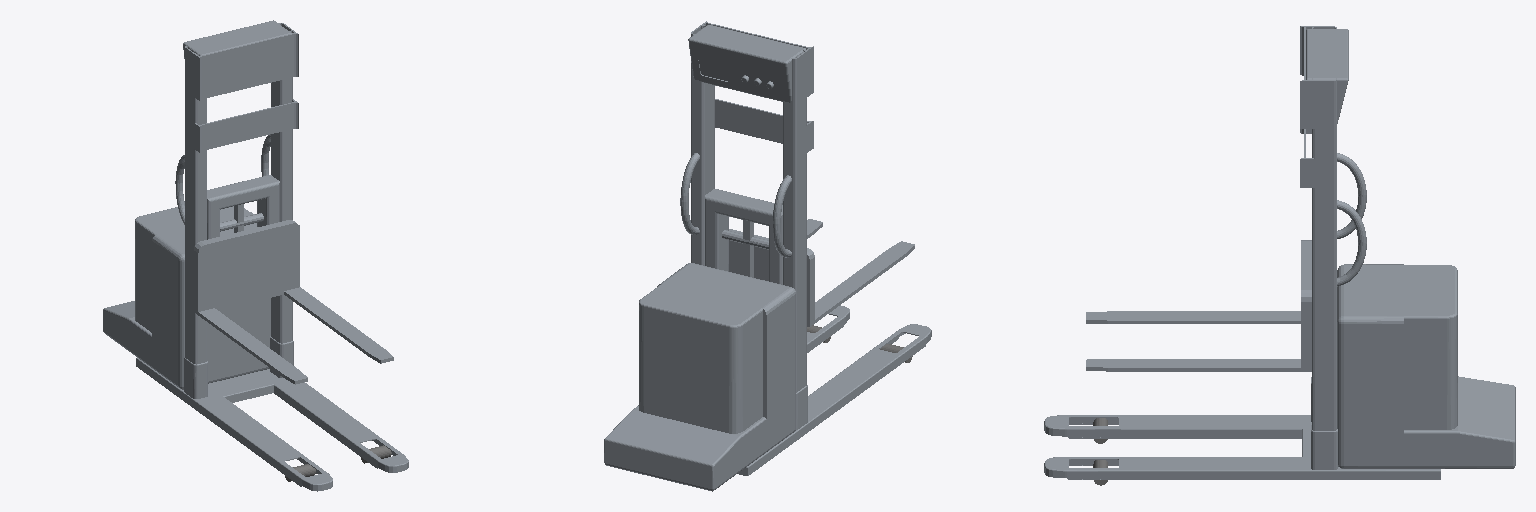
robot.urdf — rep_ryw:
<?xml version="1.0"?>
<robot name="rep_ryw">

  <link name="base_link">
    <inertial>
      <origin xyz="-0.00040041 0.07848 1.4275" rpy="0 0 0" />
      <mass value="353.37" />
      <inertia ixx="133.11" ixy="1.5652" ixz="5.7253" iyy="137.3" iyz="-5.7873" izz="6.6505" />
    </inertial>
    <visual>
      <origin xyz="0 0 0" rpy="0 0 0" />
      <geometry>
        <mesh filename="package://rep_ryw/meshes/base_link.STL" />
      </geometry>
      <material name="">
        <color rgba="0.61569 0.64314 0.67451 1" />
      </material>
    </visual>
    <collision>
      <origin xyz="0 0 0" rpy="0 0 0" />
      <geometry>
        <mesh filename="package://rep_ryw/meshes/base_link.STL" />
      </geometry>
    </collision>
  </link>

  <link name="motor_Link">
    <inertial>
      <origin xyz="0.0051653 0.014164 1.8271E-17" rpy="0 0 0" />
      <mass value="2.1701" />
      <inertia ixx="0" ixy="0" ixz="0" iyy="0" iyz="0" izz="0" />
    </inertial>
    <visual>
      <origin xyz="0 0 0" rpy="0 0 0" />
      <geometry>
        <mesh filename="package://rep_ryw/meshes/motor_Link.STL" />
      </geometry>
      <material name="">
        <color rgba="255 255 255 1" />
      </material>
    </visual>
    <collision>
      <origin xyz="0 0 0" rpy="0 0 0" />
      <geometry>
        <mesh filename="package://rep_ryw/meshes/motor_Link.STL" />
      </geometry>
    </collision>
  </link>
  <joint name="jt-m2b" type="revolute">
    <origin xyz="0 0.43 0.12633" rpy="-1.5708 0 0" />
    <parent link="base_link" />
    <child link="motor_Link" />
    <axis xyz="0 -1 0" />
    <limit effort="3.0" lower="-3.1415926" upper="3.1415926" velocity="0.1" />
  </joint>
  <!--transmission name="joint_m2b_trans">
    <type>transmission_interface/SimpleTransmission</type>
    <joint name="jt-m2b">
      <hardwareInterface>EffortJointInterface</hardwareInterface>
    </joint>
    <actuator name="joint_m2b_motor">
      <hardwareInterface>EffortJointInterface</hardwareInterface>
      <mechanicalReduction>100.0</mechanicalReduction>
    </actuator>
  </transmission/-->

  <link name="wheel_Link">
    <inertial>
      <origin xyz="0 0.025 0" rpy="0 0 0" />
      <mass value="0.80751" />
      <inertia ixx="0" ixy="0" ixz="0" iyy="0" iyz="0" izz="0" />
    </inertial>
    <visual>
      <origin xyz="0 0 0" rpy="0 0 0" />
      <geometry>
        <mesh filename="package://rep_ryw/meshes/wheel_Link.STL" />
      </geometry>
      <material name="">
        <color rgba="0.49804 0.49804 0.49804 1" />
      </material>
    </visual>
    <collision>
      <origin xyz="0 0 0" rpy="0 0 0" />
      <geometry>
        <mesh filename="package://rep_ryw/meshes/wheel_Link.STL" />
      </geometry>
    </collision>
  </link>
  <joint name="jt-w2m" type="continuous">
    <origin xyz="-0.025 0.08 0" rpy="0 0 1.5708" />
    <parent link="motor_Link" />
    <child link="wheel_Link" />
    <axis xyz="0 1 0" />
    <limit effort="5.0" velocity="0.1" />
    <joint_properties damping="2.0" friction="1.0"/>
  </joint>
  <!--transmission name="joint_w2m_trans">
    <type>transmission_interface/SimpleTransmission</type>
    <joint name="jt-w2m">
      <hardwareInterface>EffortJointInterface</hardwareInterface>
    </joint>
    <actuator name="joint_w2m_motor">
      <hardwareInterface>EffortJointInterface</hardwareInterface>
      <mechanicalReduction>100.0</mechanicalReduction>
    </actuator>
  </transmission/-->

  <link name="rwheel_Link">
    <inertial>
      <origin xyz="0 0.075 0 " rpy="0 0 0" />
      <mass value="0.54675" />
      <inertia ixx="0" ixy="0" ixz="0" iyy="0" iyz="0" izz="0" />
    </inertial>
    <visual>
      <origin xyz="0 0 0" rpy="0 -1.5708 0" />
      <geometry>
        <mesh filename="package://rep_ryw/meshes/rwheel_Link.STL" />
      </geometry>
      <material name="">
        <color rgba="0.49804 0.49804 0.49804 1" />
      </material>
    </visual>
    <collision>
      <origin xyz="0 0 0" rpy="0 -1.5708 0" />
      <geometry>
        <mesh filename="package://rep_ryw/meshes/rwheel_Link.STL" />
      </geometry>
    </collision>
  </link>
  <joint name="jt-rw2b" type="continuous">
    <origin xyz="-0.305 -0.93759 0.0063292" rpy="0 0 0" />
    <!--rpy="-1.5708 0.3918 -1.5708" /-->
    <parent link="base_link" />
    <child link="rwheel_Link" />
    <axis xyz="1 0 0" />
  </joint>

  <link name="lwheel_Link">
    <inertial>
      <origin xyz="0 0.075 0" rpy="0 0 0" />
      <!--xyz="-1.1102E-16 -5.5511E-17 0.075" rpy="0 0 0" /-->
      <mass value="0.54675" />
      <inertia ixx="0" ixy="0" ixz="0" iyy="0" iyz="0" izz="0" />
    </inertial>
    <visual>
      <origin xyz="0 0 0" rpy="0 0 1.5708" />
      <geometry>
        <mesh filename="package://rep_ryw/meshes/lwheel_Link.STL" />
      </geometry>
      <material name="">
        <color rgba="0.49804 0.49804 0.49804 1" />
      </material>
    </visual>
    <collision>
      <origin xyz="0 0 0" rpy="0 0 1.5708" />
      <geometry>
        <mesh filename="package://rep_ryw/meshes/lwheel_Link.STL" />
      </geometry>
    </collision>
  </link>
  <joint name="jt-lw2b" type="continuous">
    <origin xyz="0.305 -0.93759 0.0063292" rpy="0 0 0" />
    <!-- origin xyz="0.305 -0.93759 0.0063292" rpy="3.6732e-06 0.3918 -1.5708" /-->
    <parent link="base_link" />
    <child link="lwheel_Link" />
    <axis xyz="1 0 0" />
  </joint>

  <link name="fork_Link">
    <inertial>
      <origin xyz="0.1638 -5.3071E-07 -0.37996" rpy="0 0 0" />
      <mass value="164.19" />
      <inertia ixx="2.17" ixy="-1.4273E-05" ixz="1.5204" iyy="3.4448" iyz="1.2533E-05" izz="1.2748" />
    </inertial>
    <visual>
      <origin xyz="0 0 0" rpy="0 0 0" />
      <geometry>
        <mesh filename="package://rep_ryw/meshes/fork_Link.STL" />
      </geometry>
      <material name="">
        <color rgba="0.61569 0.64314 0.67451 1" />
      </material>
    </visual>
    <collision>
      <origin xyz="0 0 0" rpy="0 0 0" />
      <geometry>
        <mesh filename="package://rep_ryw/meshes/fork_Link.STL" />
      </geometry>
    </collision>
  </link>
  <joint name="jt-f2b" type="prismatic">
    <origin xyz="0 0.105 0.85474" rpy="0 0 -1.5708" />
    <parent link="base_link" />
    <child link="fork_Link" />
    <axis xyz="0 0 1" />
    <limit effort="0.01" lower="0.01" upper="0.58" velocity="0.1" />
    <joint_properties damping="2.0" friction="1.0"/>
  </joint>

  <link name="main_Link">
    <inertial>
      <origin xyz="-5.0336E-07 0.36638 0.35862" rpy="0 0 0" />
      <mass value="588.2" />
      <inertia ixx="0" ixy="0" ixz="0" iyy="0" iyz="0" izz="0" />
    </inertial>
    <visual>
      <origin xyz="0 0 0" rpy="0 0 0" />
      <geometry>
        <mesh filename="package://rep_ryw/meshes/main_Link.STL" />
      </geometry>
      <material name="">
        <color rgba="0.61569 0.64314 0.67451 1" />
      </material>
    </visual>
    <collision>
      <origin xyz="0 0 0" rpy="0 0 0" />
      <geometry>
        <mesh filename="package://rep_ryw/meshes/main_Link.STL" />
      </geometry>
    </collision>
  </link>
  <joint name="jt-ma2b" type="fixed">
    <origin xyz="-0.005 0.165 0.05" rpy="1.5708 -8.6736E-17 3.1416" />
    <parent link="base_link" />
    <child link="main_Link" />
    <axis xyz="0 0 0" />
  </joint>

</robot>

--- Facts derived from the render (not from the file) ---
Views: 3 orthographic renders of the robot side by side, from view 1: azimuth 30°, elevation 25°; view 2: azimuth 150°, elevation 25°; view 3: azimuth 270°, elevation 25°.
Robot: rep_ryw — 7 links, 6 joints (1 revolute, 3 continuous, 1 prismatic, 1 fixed); root link base_link; default pose: all joints at 0 but 1 set to mid-range because 0 is outside their limits (jt-f2b = 0.295).
Visible links, largest first — view 1: base_link, fork_Link, main_Link; view 2: main_Link, base_link, fork_Link; view 3: main_Link, base_link, fork_Link.
Boxes of the visible links, x1,y1,x2,y2 form: base_link: (136, 20, 408, 491); fork_Link: (194, 175, 393, 384); main_Link: (103, 206, 270, 389); main_Link: (604, 263, 795, 491); base_link: (680, 21, 931, 475); fork_Link: (705, 189, 914, 326); main_Link: (1337, 264, 1515, 468); base_link: (1044, 26, 1440, 479); fork_Link: (1086, 240, 1311, 371).
Bounding box of the posed robot: 0.625 × 2.19 × 2.08 m (x, y, z).
Meshes: 7 distinct files referenced, 7 mesh visuals loaded (7 binary STL).
